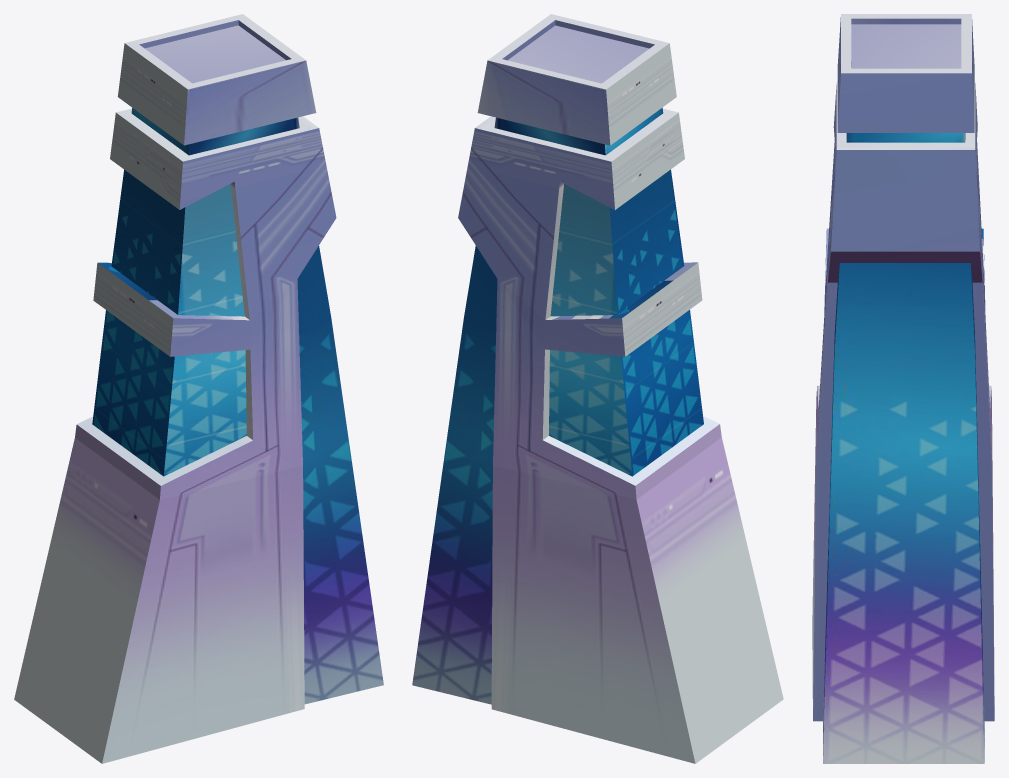
Rendered from city_tower_c.glb.
3 renders of one model, left to right at view 1: azimuth 30°, elevation 25°; view 2: azimuth 150°, elevation 25°; view 3: azimuth 270°, elevation 25°, orthographic. The views are drawn at different scales.
Parts seen in each view (by area): view 1: P00, P01, P02; view 2: P00, P01, P02; view 3: P00.
Part boxes in pixels (x1,y1,x2,y2): P00: [77, 14, 383, 763]; P01: [14, 43, 187, 763]; P02: [92, 169, 246, 476]; P00: [412, 14, 719, 763]; P01: [606, 43, 783, 763]; P02: [549, 169, 703, 476]; P00: [812, 14, 994, 763].
Bounding box in the file's own units: 13.19 × 28.12 × 7.03.
Materials: 3 (3 with a texture image).
